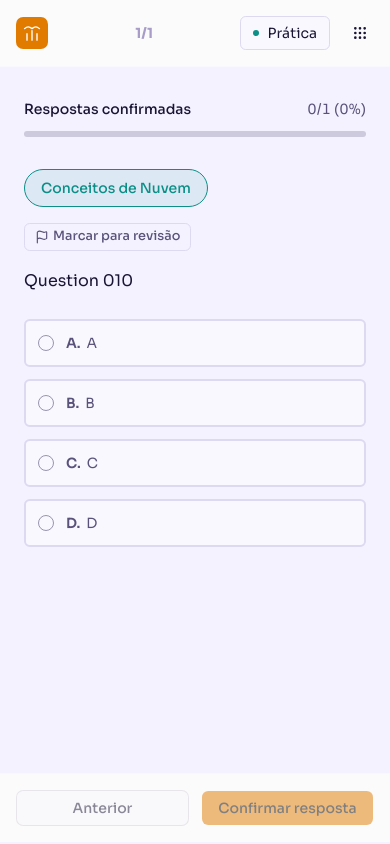
Test: QuizLayout › permite abrir mapa de questões
The image size is (390, 844).
Click the button named "Abrir mapa de questões" at (360, 33), box [346,19,374,47]
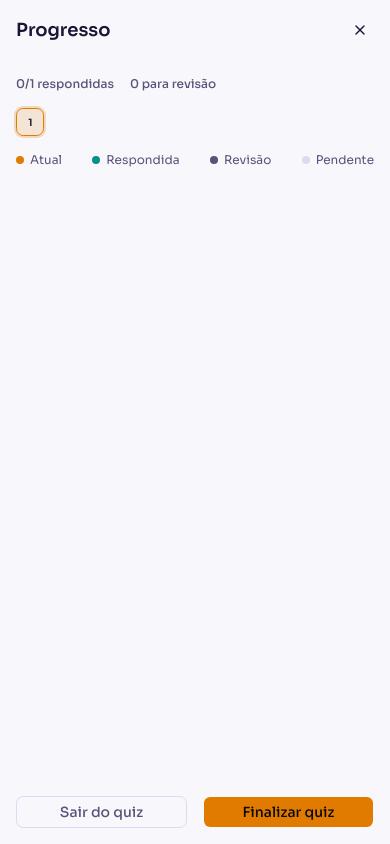
Expected: the dialog named "Mapa das questões" is shown
